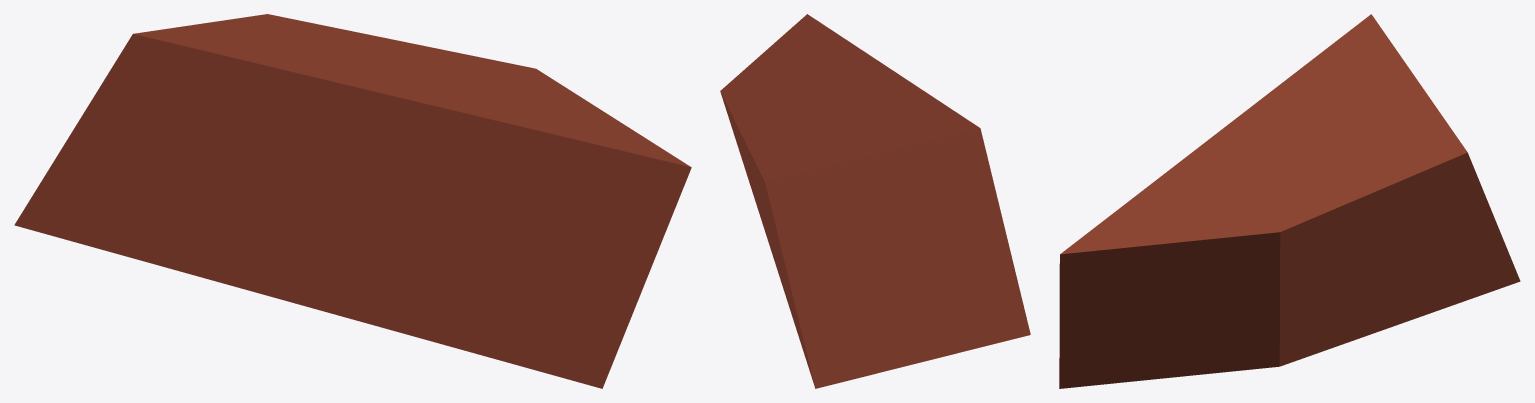
Rendered from logCustoms_1a.fbx.
The picture shows the model from 3 angles, left to right: view 1: azimuth 30°, elevation 25°; view 2: azimuth 150°, elevation 25°; view 3: azimuth 270°, elevation 25°; orthographic projection. The views are drawn at different scales.
Visible parts, largest first — view 1: logCustoms_1a; view 2: logCustoms_1a; view 3: logCustoms_1a.
Boxes of the visible parts, <box> form: logCustoms_1a: <box>14,14,691,388</box>; logCustoms_1a: <box>720,14,1030,388</box>; logCustoms_1a: <box>1059,14,1520,388</box>.
Bounding box in the file's own units: 29.4 × 17.67 × 29.16.
